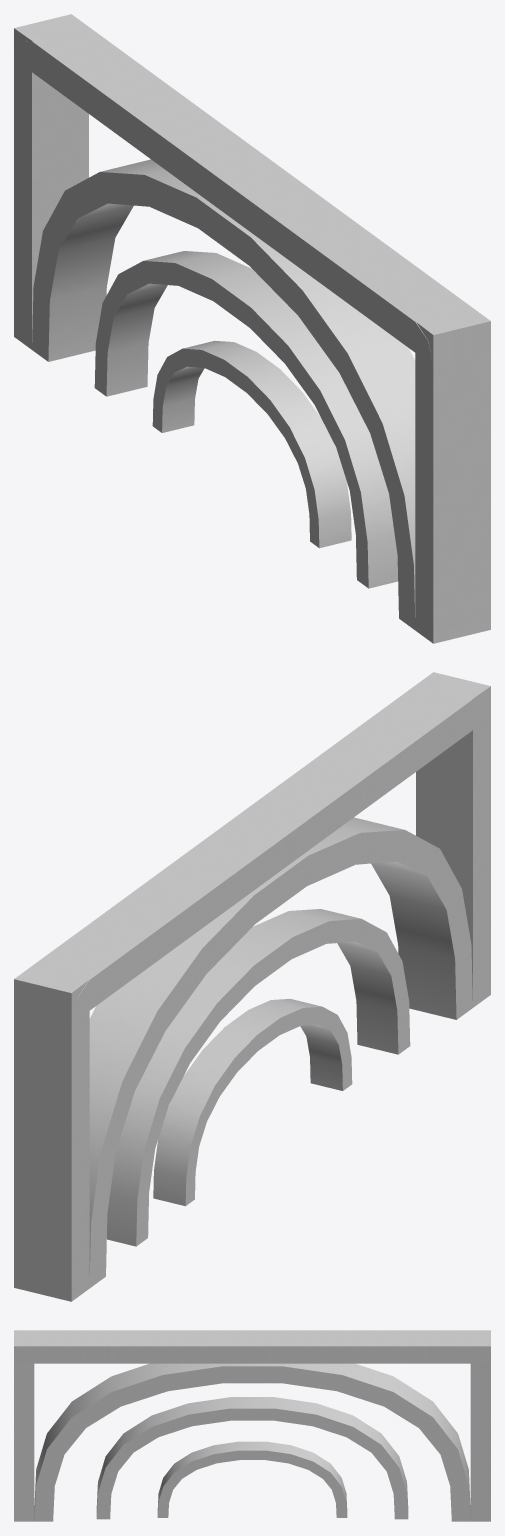
File: Decor_handrail.fbx
The picture shows the model from 3 angles, top to bottom: view 1: azimuth 30°, elevation 25°; view 2: azimuth 150°, elevation 25°; view 3: azimuth 270°, elevation 25°; orthographic projection. The views are drawn at different scales.
Visible parts, largest first — view 1: handrail_bottom, handrail_straight, handrail_curved; view 2: handrail_bottom, handrail_curved, handrail_straight; view 3: handrail_bottom, handrail_straight, handrail_curved.
Part boxes in pixels (x1,y1,x2,y2): handrail_bottom: (14,59,490,643); handrail_straight: (14,14,490,365); handrail_curved: (14,27,433,365); handrail_bottom: (14,717,490,1301); handrail_curved: (38,685,490,1023); handrail_straight: (14,672,490,1023); handrail_bottom: (14,1363,490,1521); handrail_straight: (14,1330,490,1363); handrail_curved: (34,1330,470,1345).
Bounding box in the file's own units: 15.84 × 81.19 × 200.
